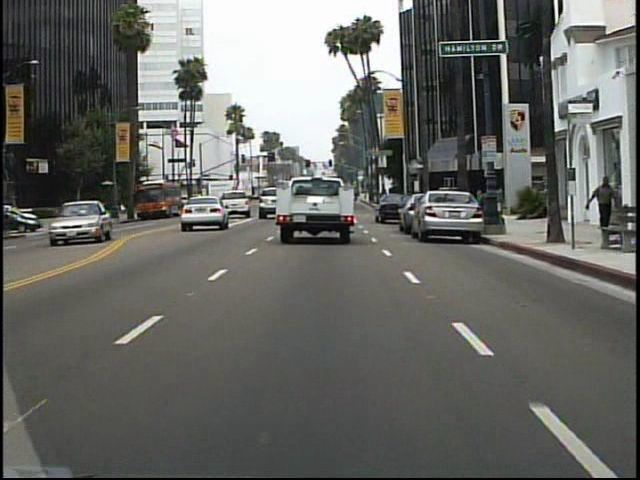person: (583, 173, 618, 239), (97, 195, 112, 223)
